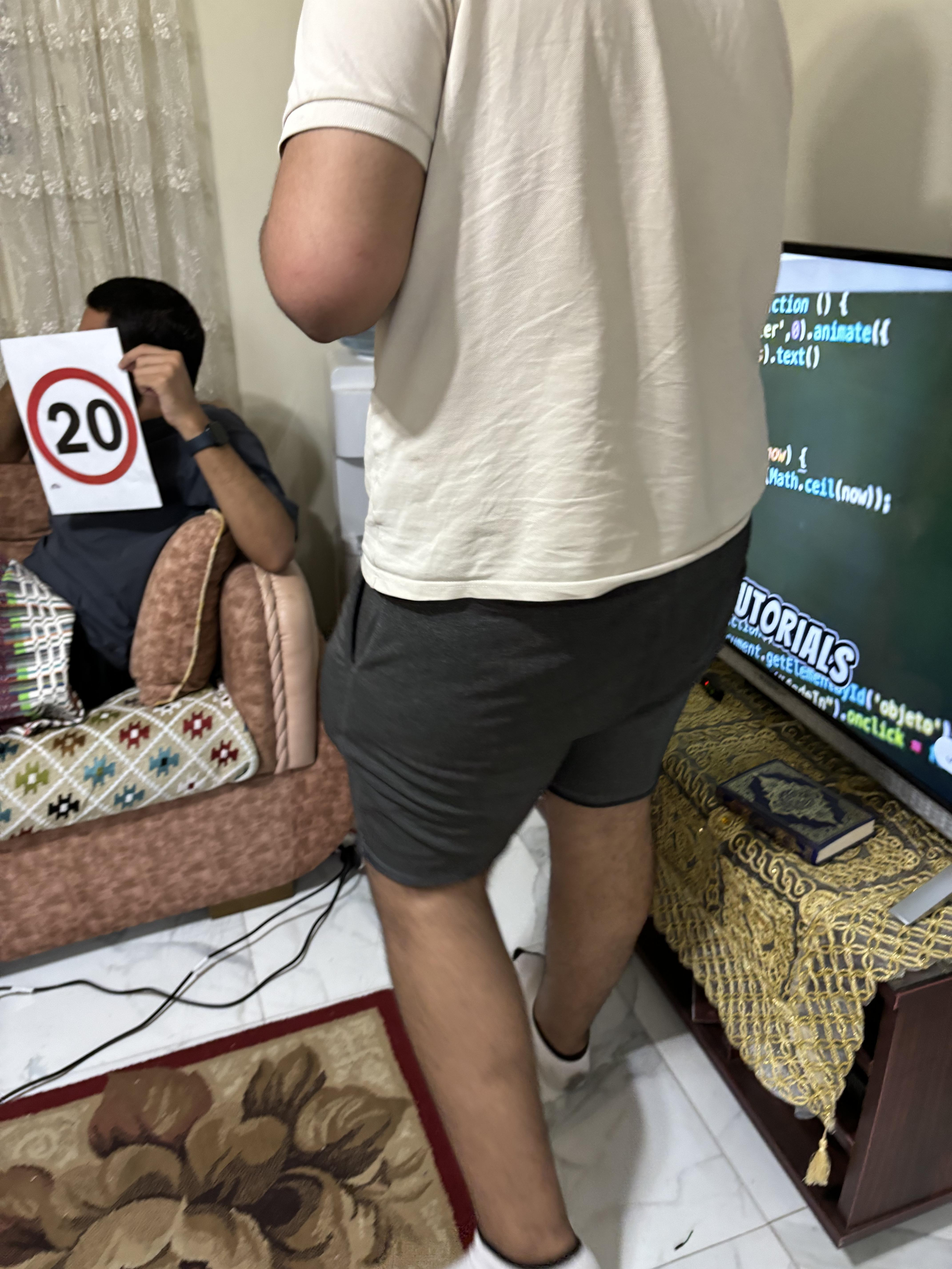20-Speed: (22, 358, 154, 490)
